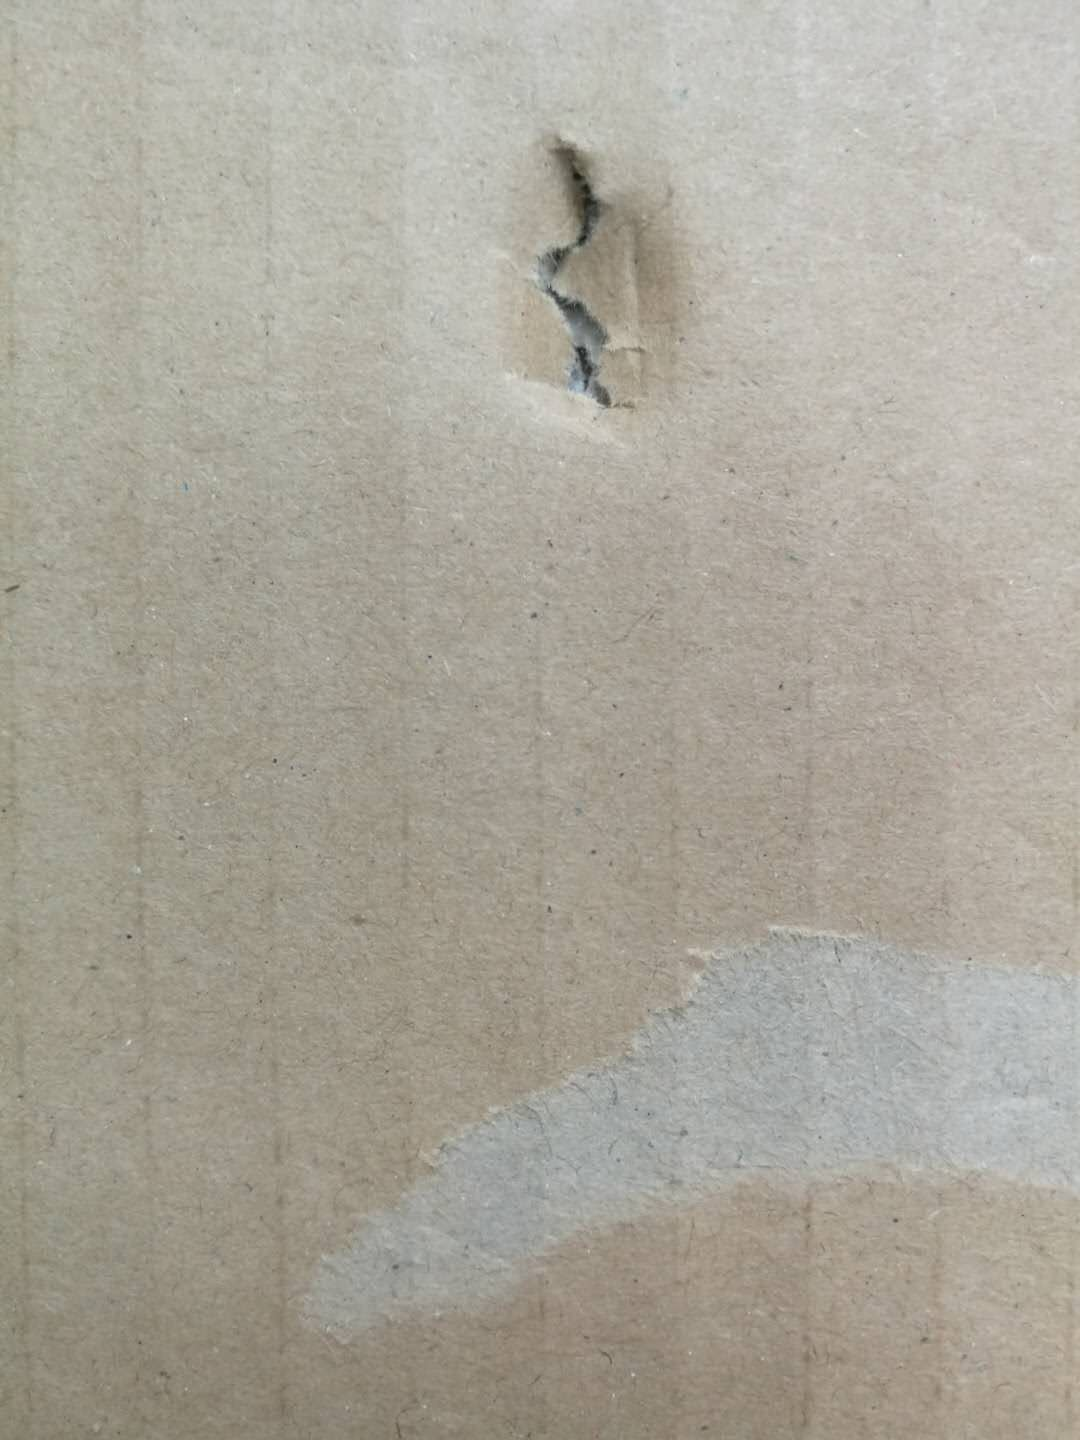defect: (265, 879, 1080, 1359), (457, 110, 729, 461)
